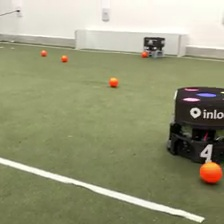ball: (198, 159, 224, 186), (108, 76, 119, 88), (60, 53, 68, 62), (40, 48, 48, 57), (140, 49, 148, 57)
goal: (73, 26, 188, 59)
robot: (164, 82, 224, 166), (142, 36, 166, 59)
